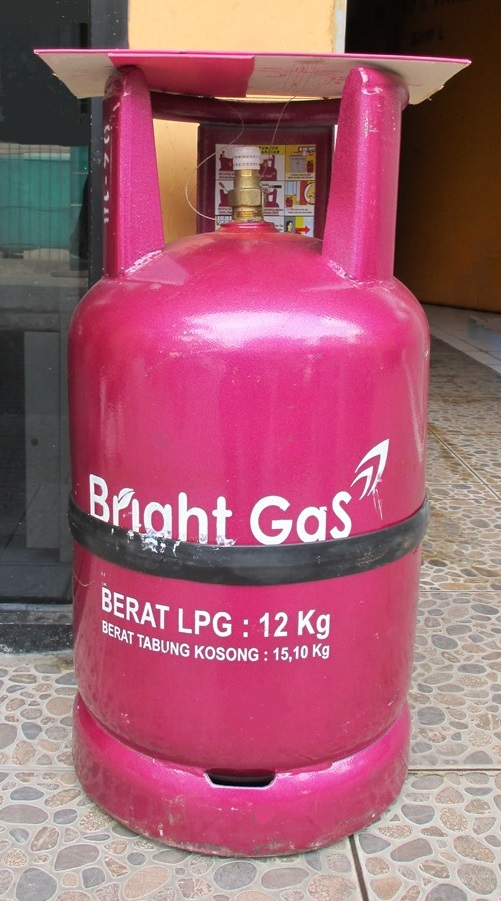bright_gas: (67, 63, 432, 868)
